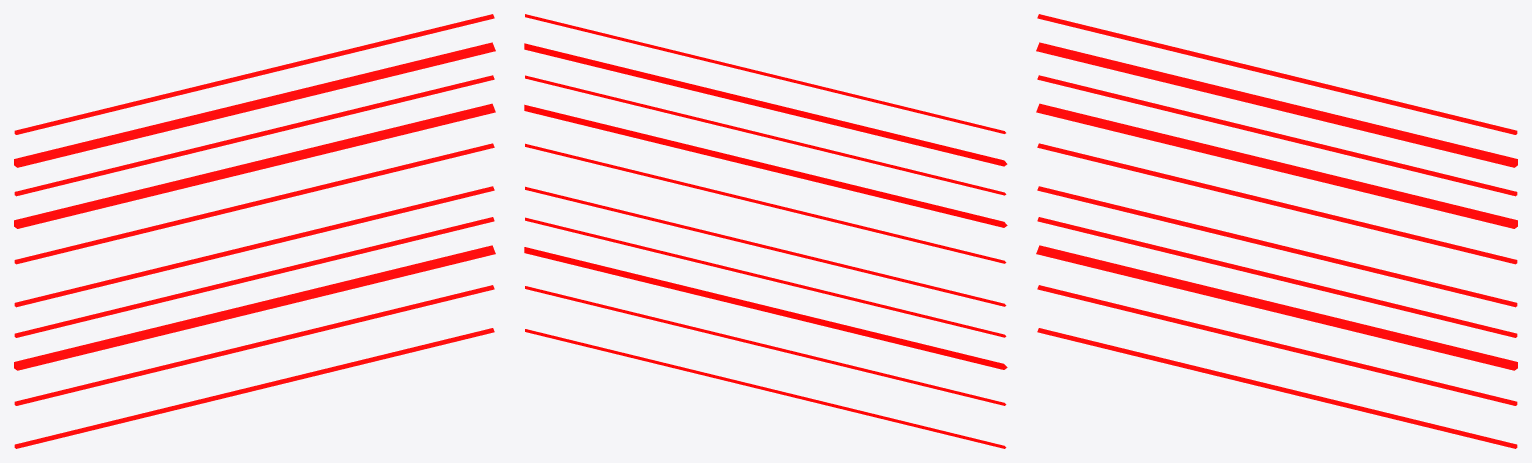
The model's file is Laser.fbx.
3 views of the same model, side by side, from view 1: azimuth 30°, elevation 25°; view 2: azimuth 150°, elevation 25°; view 3: azimuth 330°, elevation 25° (orthographic).
Parts seen in each view (by area): view 1: Cube; view 2: Cube; view 3: Cube.
Boxes of the visible parts, box(x1,y1,x2,y2) form: Cube: box(14, 14, 495, 448); Cube: box(524, 14, 1007, 448); Cube: box(1036, 14, 1517, 448).
Size of the model in its own units: 1500 by 950 by 18.75.
